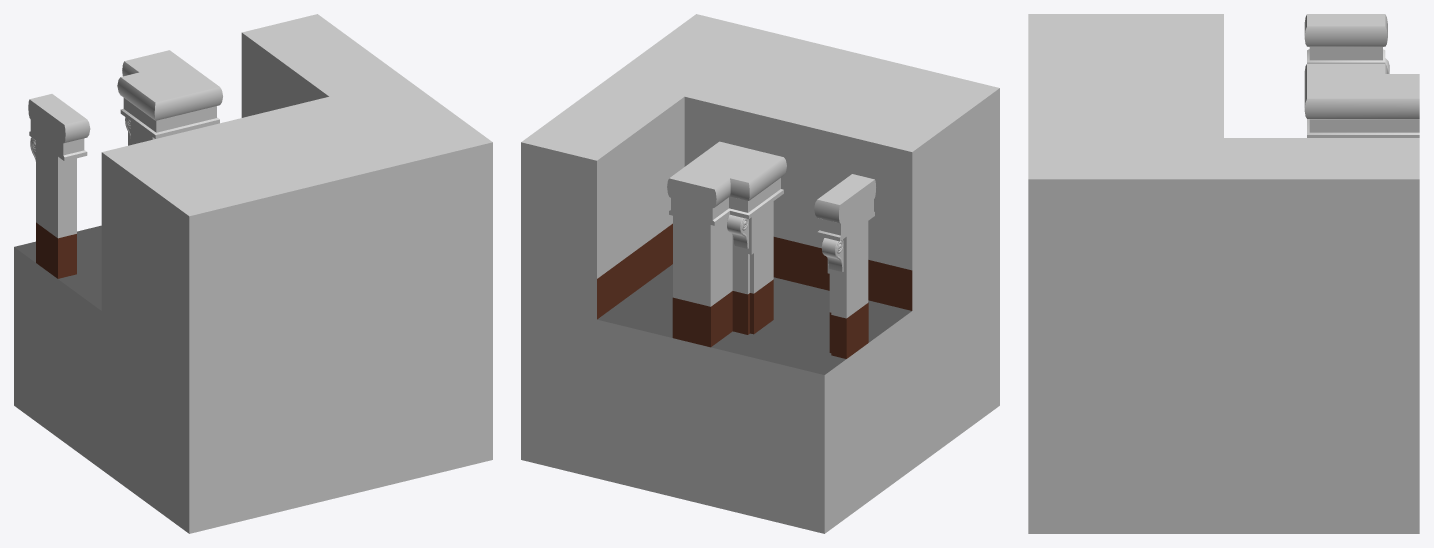
The model's file is House_Base_Side_Back_F_ccv_var0.fbx.
3 renders of one model, left to right at view 1: azimuth 30°, elevation 25°; view 2: azimuth 150°, elevation 25°; view 3: azimuth 270°, elevation 25°, orthographic. The views are drawn at different scales.
Visible parts, largest first — view 1: House_Base_Side_Back_F_ccv_MESH; view 2: House_Base_Side_Back_F_ccv_MESH; view 3: House_Base_Side_Back_F_ccv_MESH.
Boxes of the visible parts, <box> form: House_Base_Side_Back_F_ccv_MESH: <box>14,14,492,533</box>; House_Base_Side_Back_F_ccv_MESH: <box>521,14,999,533</box>; House_Base_Side_Back_F_ccv_MESH: <box>1028,14,1419,533</box>.
Bounding box in the file's own units: 4 × 4 × 4.
